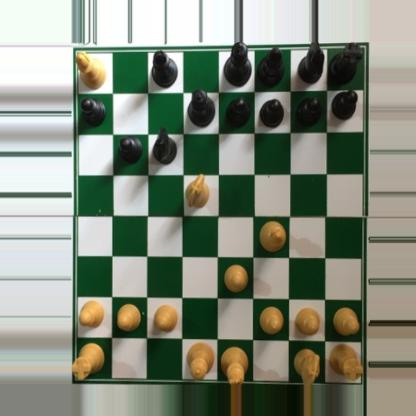black-bishop: (255, 43, 286, 87), (151, 50, 180, 88)
black-king: (222, 42, 252, 87)
black-knight: (298, 42, 326, 85), (151, 126, 177, 165)
black-pawn: (257, 98, 286, 129), (331, 88, 358, 121), (79, 96, 107, 127), (295, 96, 322, 127), (224, 98, 249, 130), (116, 136, 143, 165)
black-queen: (186, 88, 216, 128)
black-rook: (327, 42, 362, 86)
white-bishop: (75, 49, 107, 90), (257, 218, 288, 253)
white-king: (217, 344, 248, 385)
white-knight: (293, 347, 320, 385), (184, 173, 210, 211)
white-pawn: (331, 306, 360, 337), (258, 305, 286, 337), (294, 306, 321, 337), (151, 303, 179, 332), (223, 264, 249, 295), (79, 299, 105, 330), (115, 302, 141, 332)
white-queen: (184, 339, 215, 382)
white-rook: (71, 340, 106, 381), (327, 342, 362, 380)
